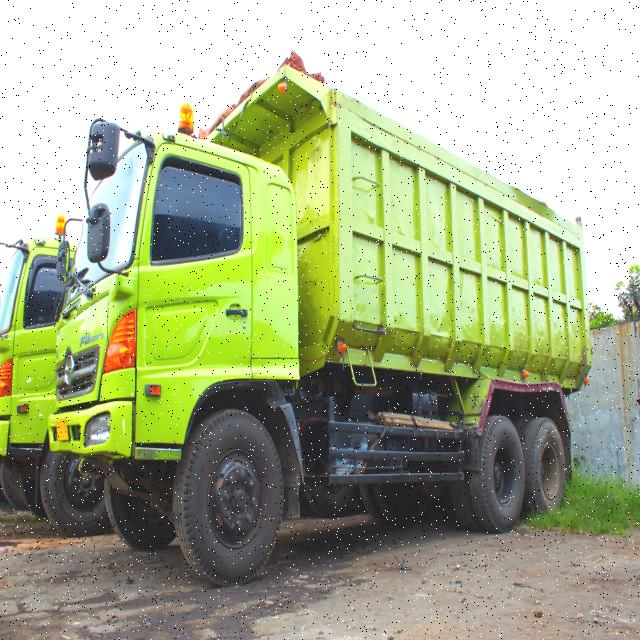truck: (46, 64, 592, 584)
